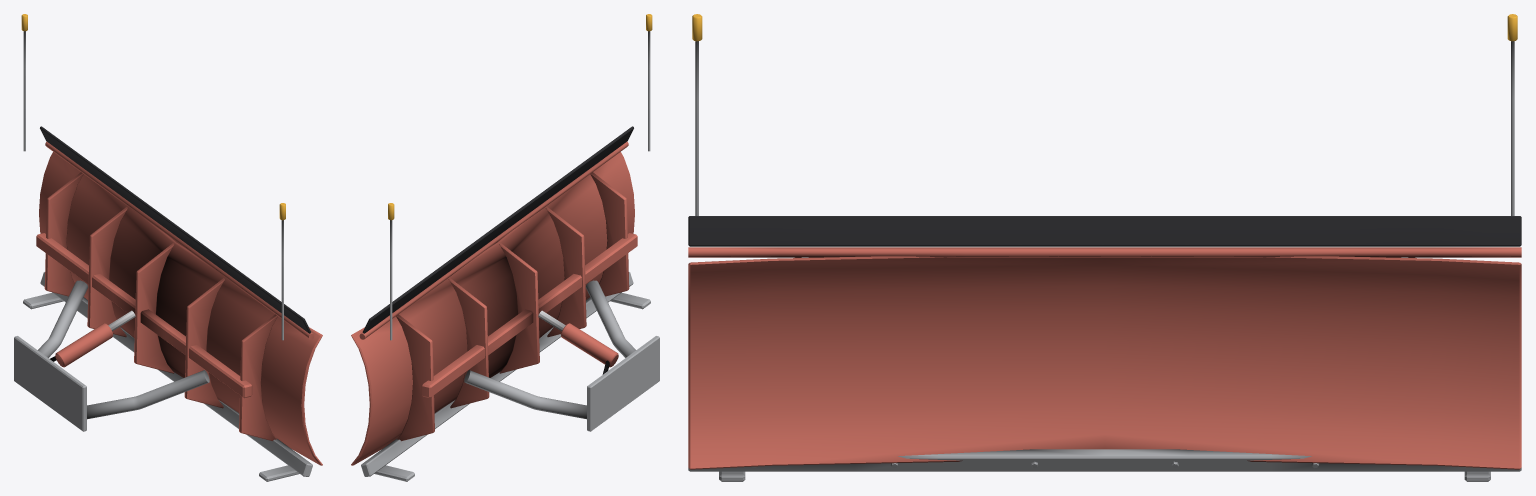
File: bf_plow.glb
The picture shows the model from 3 angles, left to right: view 1: azimuth 30°, elevation 25°; view 2: azimuth 150°, elevation 25°; view 3: azimuth 270°, elevation 25°; orthographic projection. The views are drawn at different scales.
Visible parts, largest first — view 1: PART; view 2: PART; view 3: PART.
Part boxes in pixels (x1,y1,x2,y2): PART: (14, 14, 322, 481); PART: (351, 14, 659, 481); PART: (688, 14, 1521, 481).
Bounding box in the file's own units: 0.5973 × 1.12 × 1.9.
